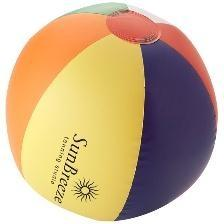Sports-Ball: (2, 2, 224, 224)
